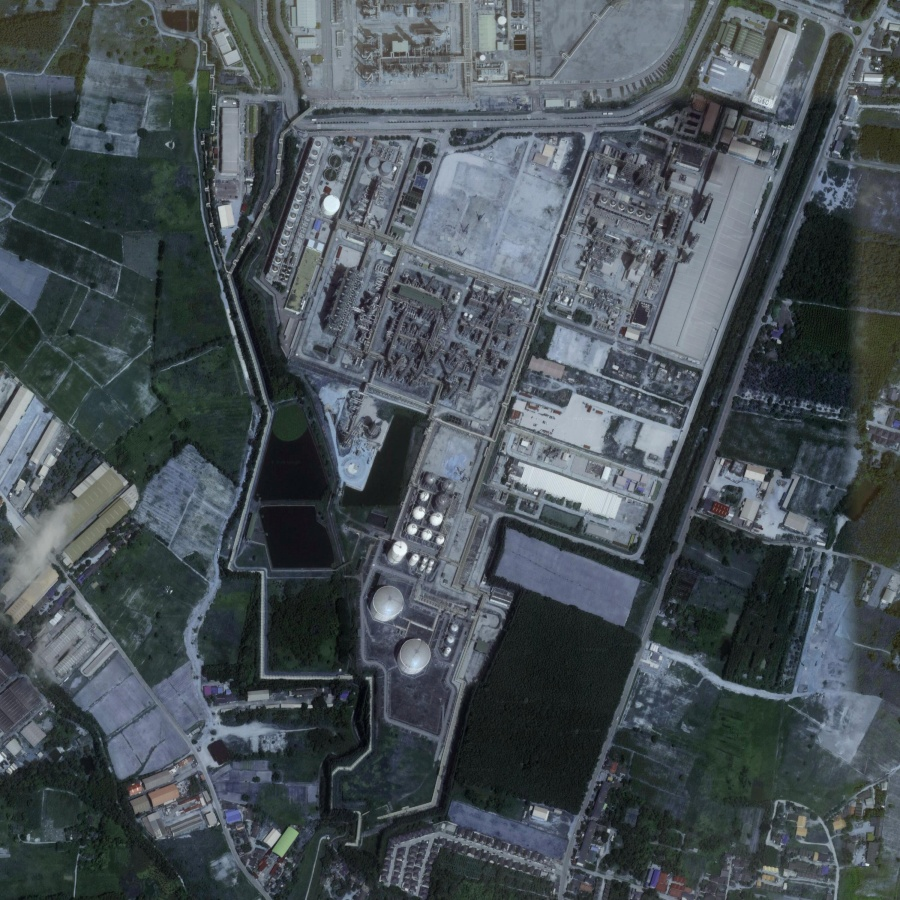PowerPlant: (280, 228, 532, 687)
